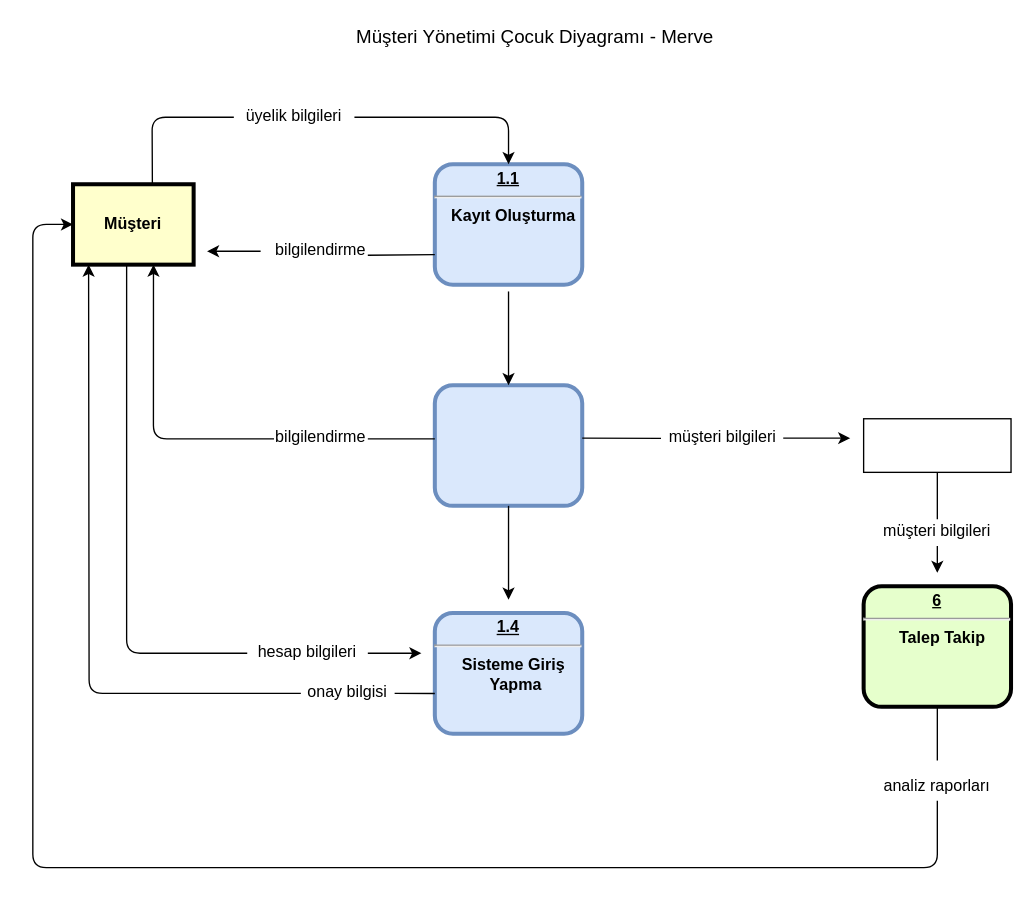
Some shapes in this 1036 by 902 pixel diagram are drawn without their labels. The shapes that lost their labels are listed below. From the top down, each one's centre as x and y in pixels, then its label:
At pixel 508 445: "1.2 Onaylama".
At pixel 936 444: "D1 Müşteri".
